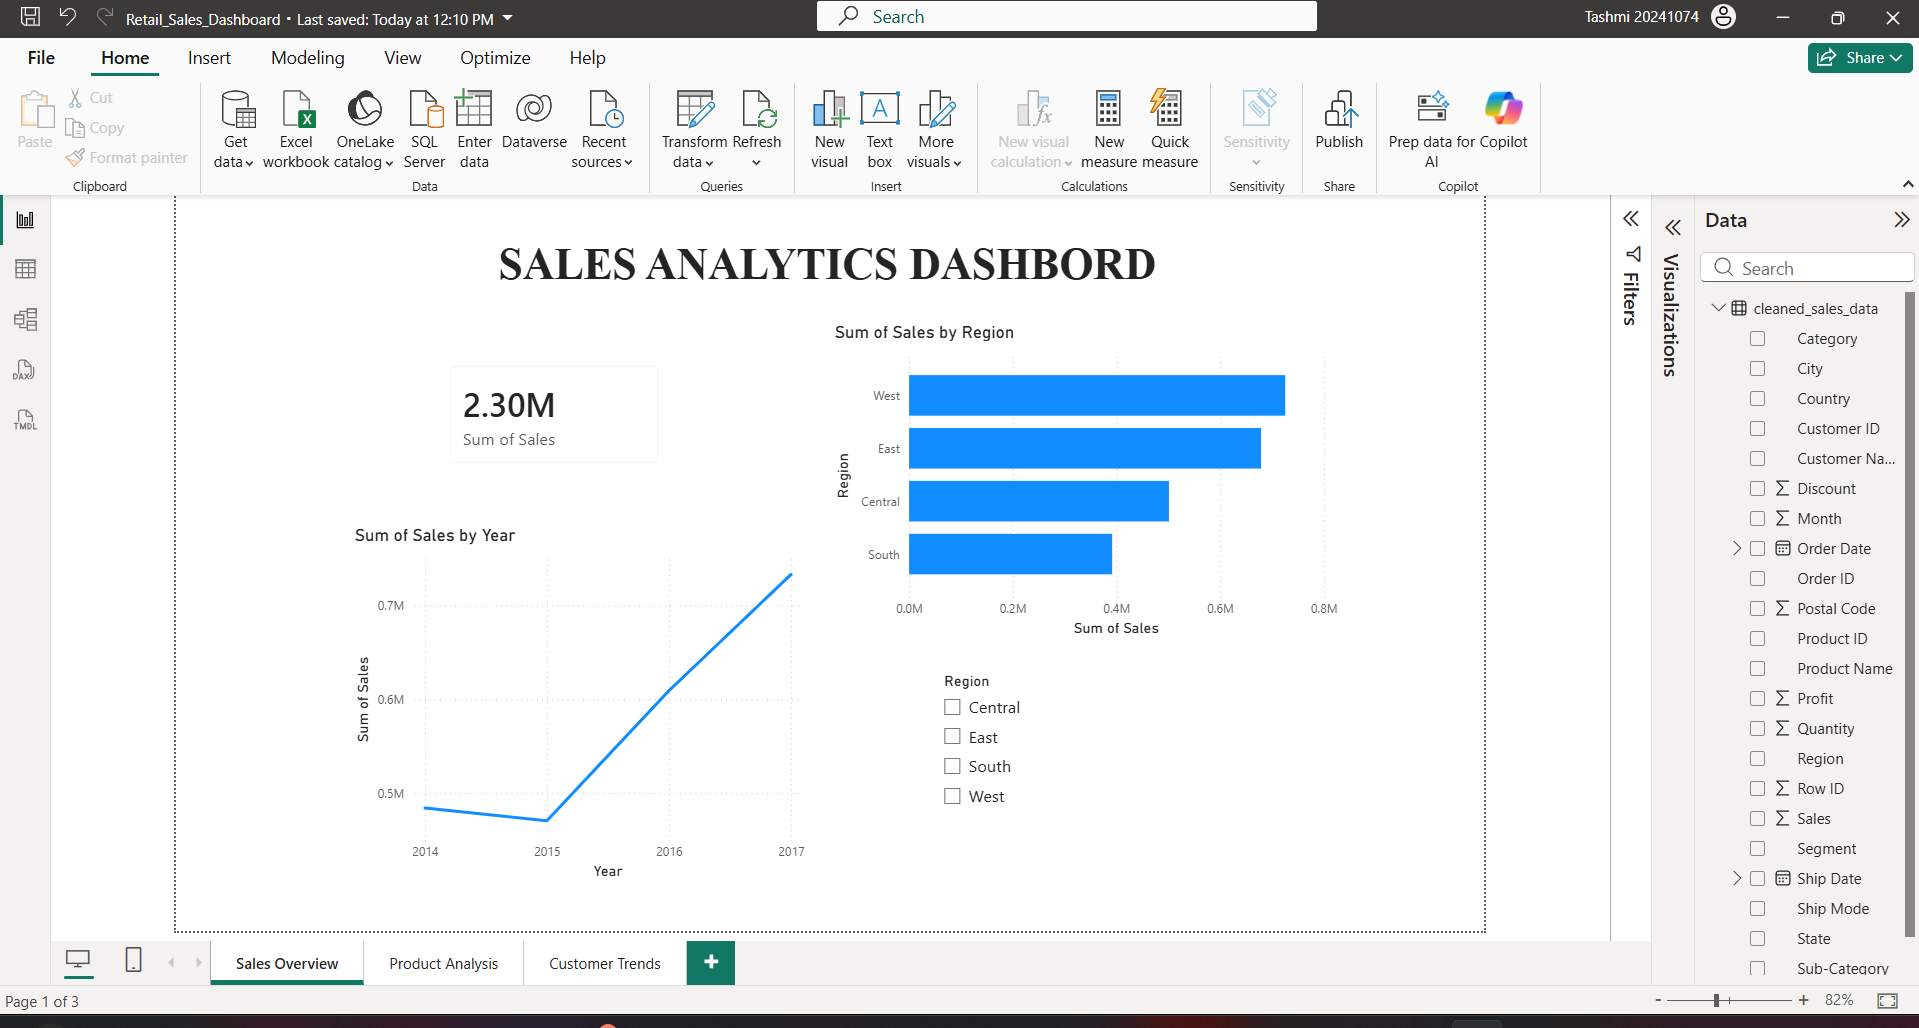

This screenshot's page, from the dashboard's own definition file:
{"tool":"powerbi","page":{"name":"Sales Overview","canvas":[1280,720],"ordinal":0},"visuals":[{"type":"textbox","box":[222.6,37.9,829.1,69.7],"z":0},{"type":"cardVisual","fields":{"Data":["Sum(cleaned_sales_data.Sales)"]},"box":[250.7,150.4,238.5,129.6],"z":1000},{"type":"clusteredBarChart","fields":{"Category":["cleaned_sales_data.Region"],"Y":["Sum(cleaned_sales_data.Sales)"]},"box":[639.5,123.5,502.6,313],"z":2000},{"type":"lineChart","fields":{"Category":["cleaned_sales_data.Order Date.Variation.Date Hierarchy.Year","cleaned_sales_data.Order Date.Variation.Date Hierarchy.Quarter","cleaned_sales_data.Order Date.Variation.Date Hierarchy.Month","cleaned_sales_data.Order Date.Variation.Date Hierarchy.Day"],"Y":["Sum(cleaned_sales_data.Sales)"]},"box":[170,322.8,450,352.2],"z":3000},{"type":"slicer","fields":{"Values":["cleaned_sales_data.Region"]},"box":[738.6,462.2,313,177.3],"z":4000},{"type":"textbox","box":[1026,452.4,150.4,56.3],"z":5000}]}

Visuals, with their boxes on the page's 1280x720 design canvas (x1, y1, x2, y2). These are canvas units, not pixel positions in the 1919x1028 screenshot, which may show the page scaled, cropped or inside an application window:
textbox: crop(223, 38, 1052, 108)
cardVisual - Sum(cleaned_sales_data.Sales): crop(251, 150, 489, 280)
clusteredBarChart - cleaned_sales_data.Region x Sum(cleaned_sales_data.Sales): crop(640, 124, 1142, 436)
lineChart - cleaned_sales_data.Order Date.Variation.Date Hierarchy.Year x cleaned_sales_data.Order Date.Variation.Date Hierarchy.Quarter: crop(170, 323, 620, 675)
slicer - cleaned_sales_data.Region: crop(739, 462, 1052, 640)
textbox: crop(1026, 452, 1176, 509)
